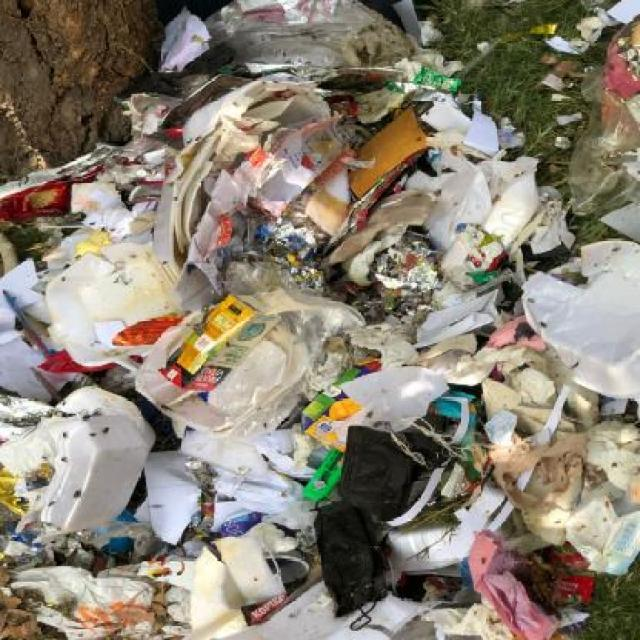garbage: (141, 3, 640, 640), (3, 157, 140, 640)
